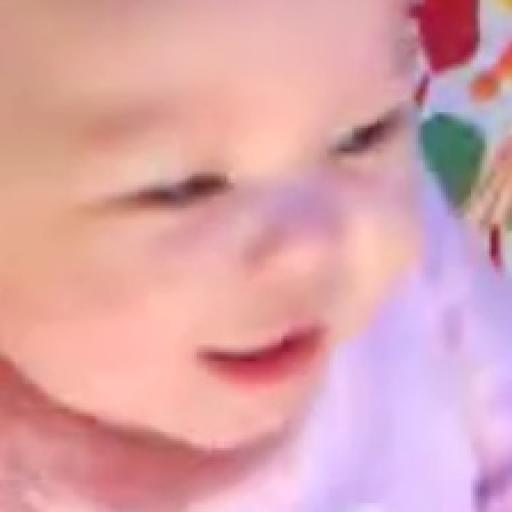Autism: (16, 29, 461, 512)
